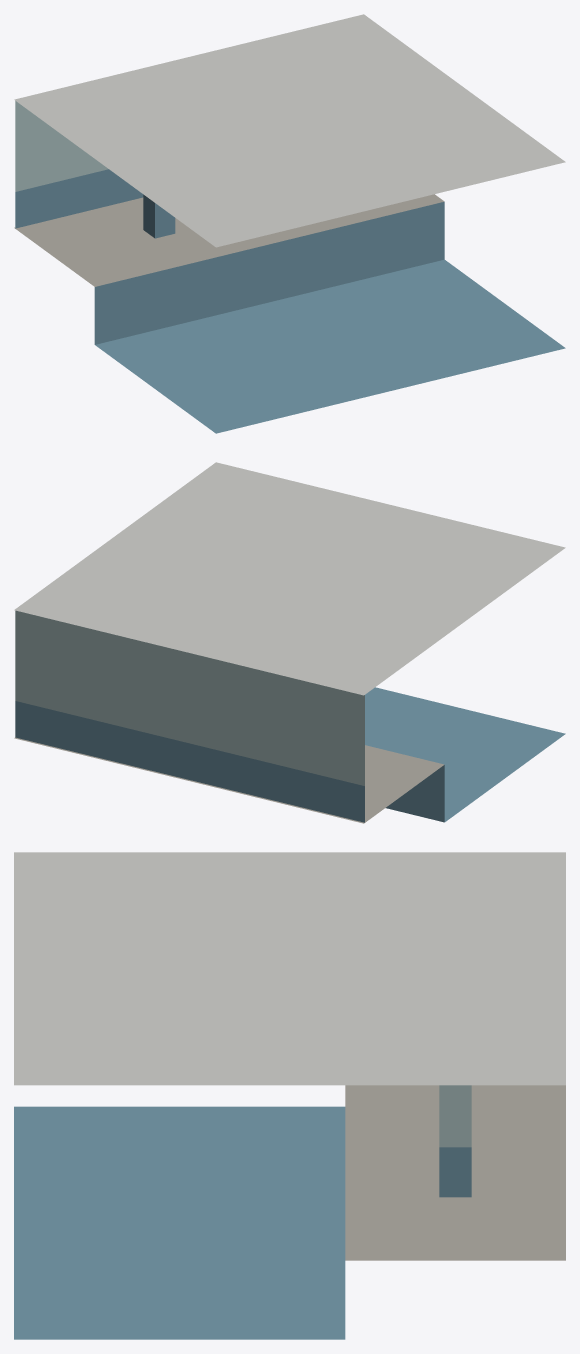
File: chunk_1_3.glb
3 renders of one model, top to bottom at view 1: azimuth 30°, elevation 25°; view 2: azimuth 150°, elevation 25°; view 3: azimuth 270°, elevation 25°, orthographic. The views are drawn at different scales.
Parts seen in each view (by area): view 1: chunk_1_3; view 2: chunk_1_3; view 3: chunk_1_3.
Boxes of the visible parts, x1=… form: chunk_1_3: x1=14, y1=14, x2=565, y2=433; chunk_1_3: x1=14, y1=462, x2=565, y2=823; chunk_1_3: x1=14, y1=852, x2=565, y2=1339.
Size of the model in its own units: 12 by 6.1 by 12.
